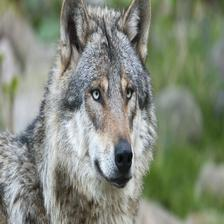WOLF: (0, 0, 156, 224)
